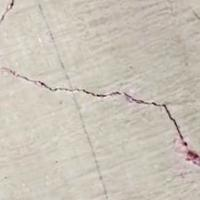crack: (0, 58, 199, 163)
